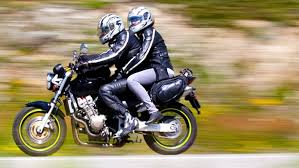moto: (8, 66, 207, 156)
person: (126, 7, 177, 81), (95, 7, 134, 91)
